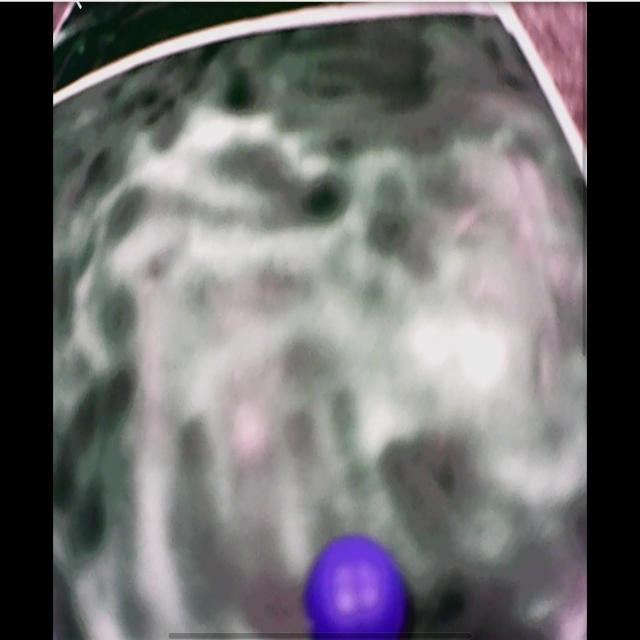ball: (307, 537, 404, 639)
